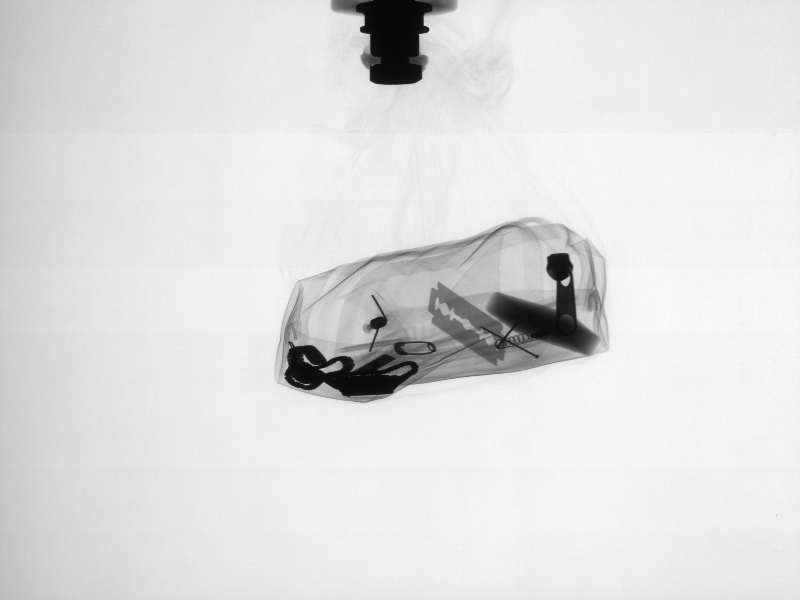bobby pin: (391, 338, 444, 356)
needle: (481, 324, 531, 357)
rasor blade: (431, 281, 504, 366)
rope: (282, 342, 410, 403)
string: (489, 331, 532, 351)
